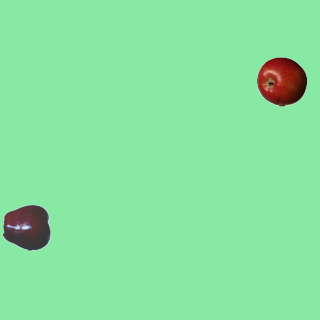Apple Braeburn: (256, 56, 306, 106)
Apple Red Delicious: (2, 202, 52, 252)
